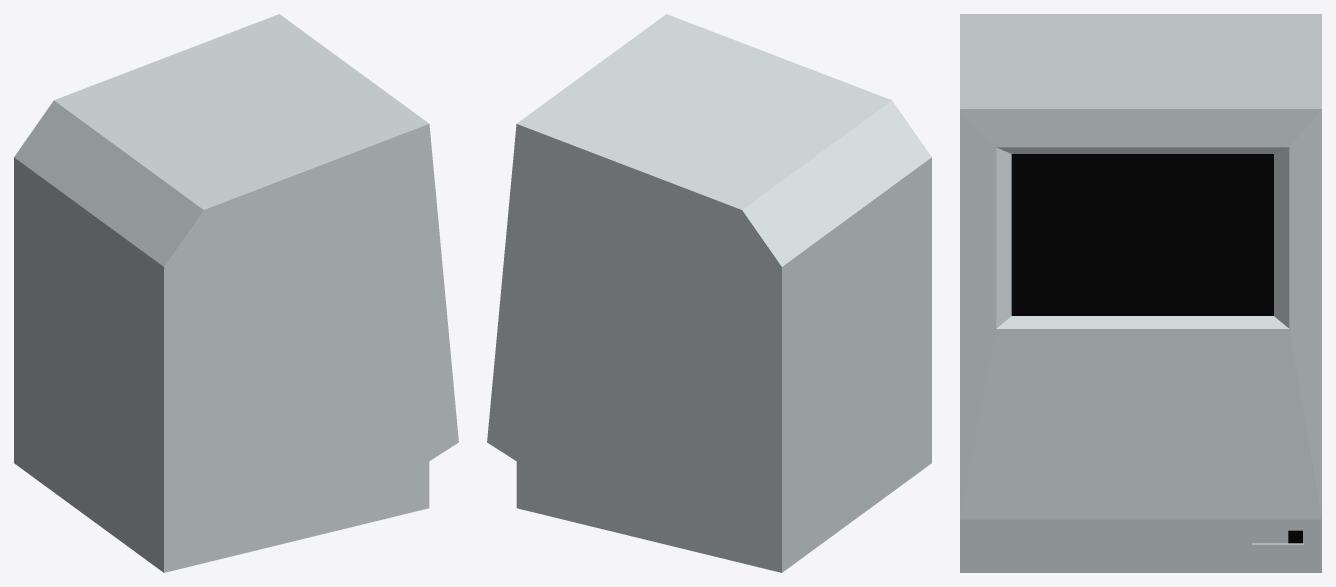
The model's file is macintosh2.glb.
The picture shows the model from 3 angles, left to right: view 1: azimuth 30°, elevation 25°; view 2: azimuth 150°, elevation 25°; view 3: azimuth 270°, elevation 25°; orthographic projection. The views are drawn at different scales.
Parts seen in each view (by area): view 1: mac2; view 2: mac2; view 3: mac2, terminal.
Part boxes in pixels (x1=…): mac2: x1=14, y1=14, x2=458, y2=572; mac2: x1=487, y1=14, x2=931, y2=572; mac2: x1=960, y1=14, x2=1321, y2=572; terminal: x1=1011, y1=154, x2=1273, y2=315.
Bounding box in the file's own units: 0.554 × 0.69 × 0.488.
Materials: 1 (1 with a texture image).
